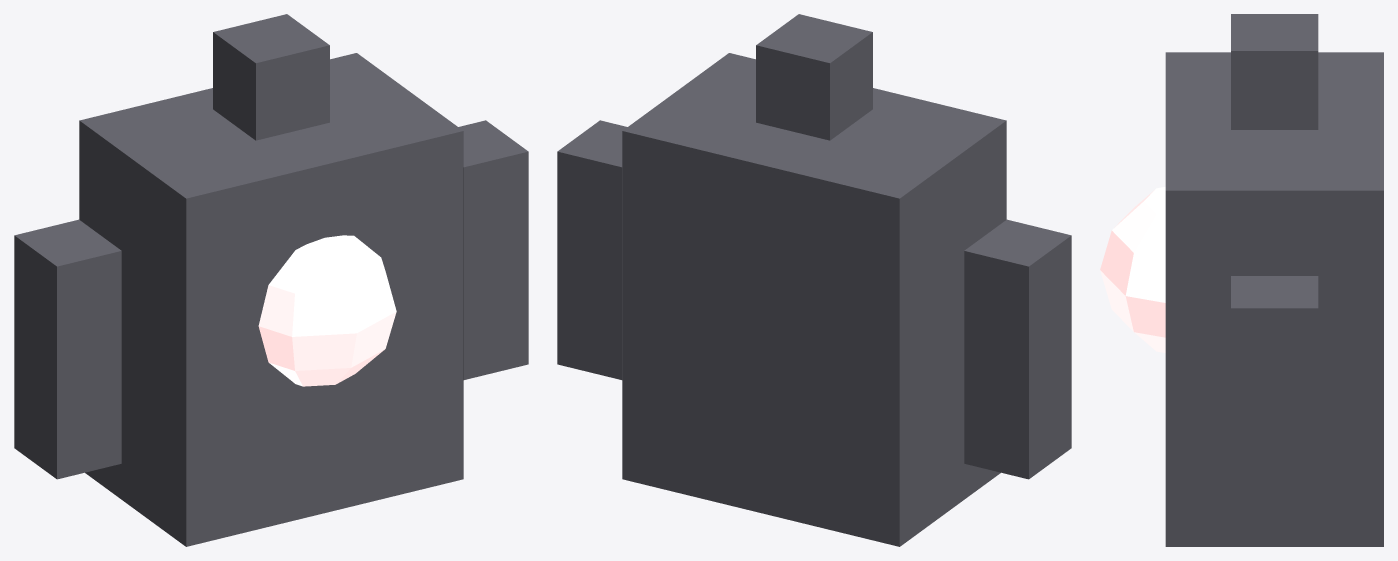
Rendered from crystal_colossus_boss.fbx.
3 renders of one model, left to right at view 1: azimuth 30°, elevation 25°; view 2: azimuth 150°, elevation 25°; view 3: azimuth 270°, elevation 25°, orthographic. The views are drawn at different scales.
Parts seen in each view (by area): view 1: Cube.003; view 2: Cube.003; view 3: Cube.003.
Part boxes in pixels (bbox=[...]): Cube.003: bbox=[14, 14, 528, 546]; Cube.003: bbox=[557, 14, 1071, 546]; Cube.003: bbox=[1100, 14, 1383, 546].
Bounding box in the file's own units: 510 × 450 × 260.
